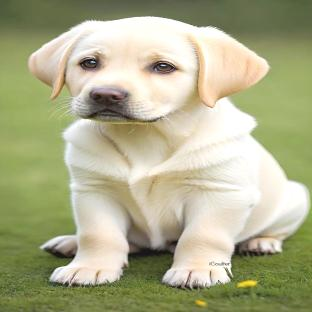Animal: (29, 17, 309, 288)
